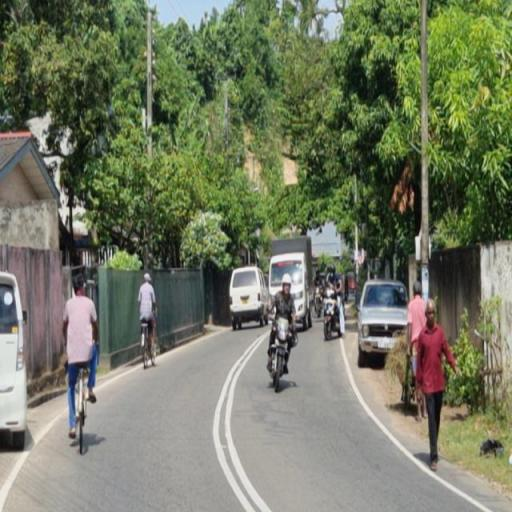double_white_line: (213, 330, 267, 512)
